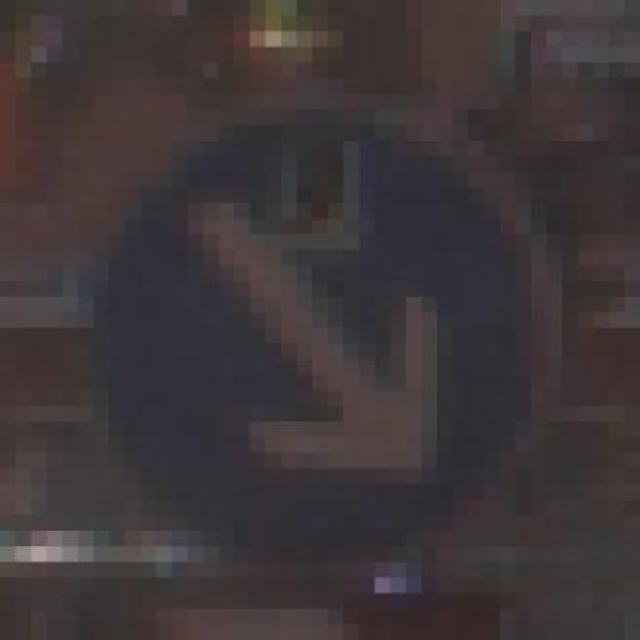Keep-Right: (47, 78, 578, 578)
